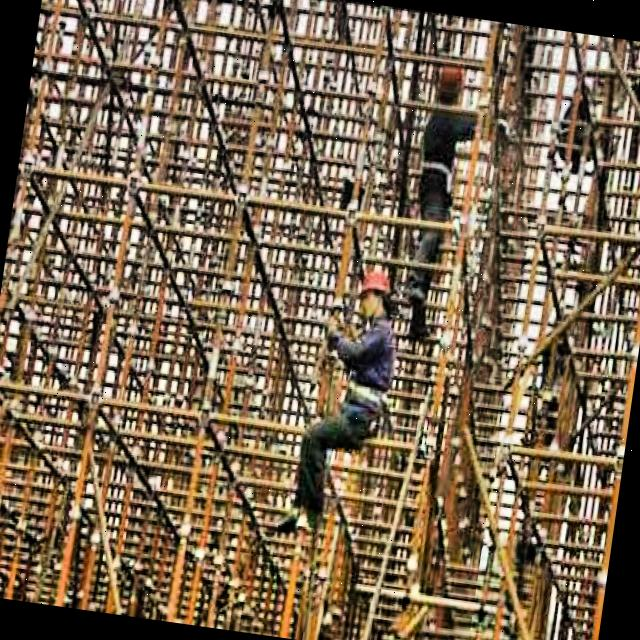helmet: (430, 48, 480, 115), (354, 264, 398, 328)
